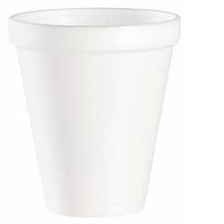paper_cup: (5, 2, 185, 224)
